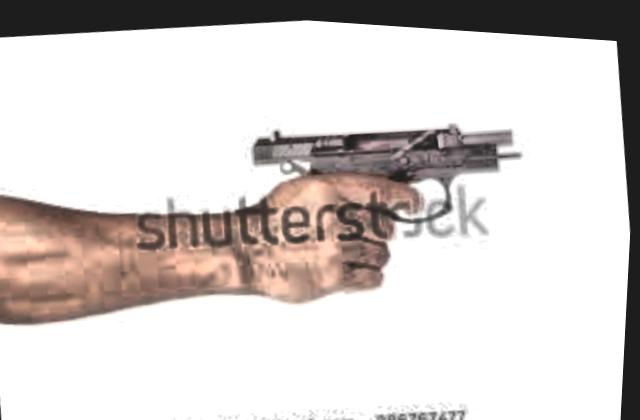pistol: (242, 87, 535, 243)
